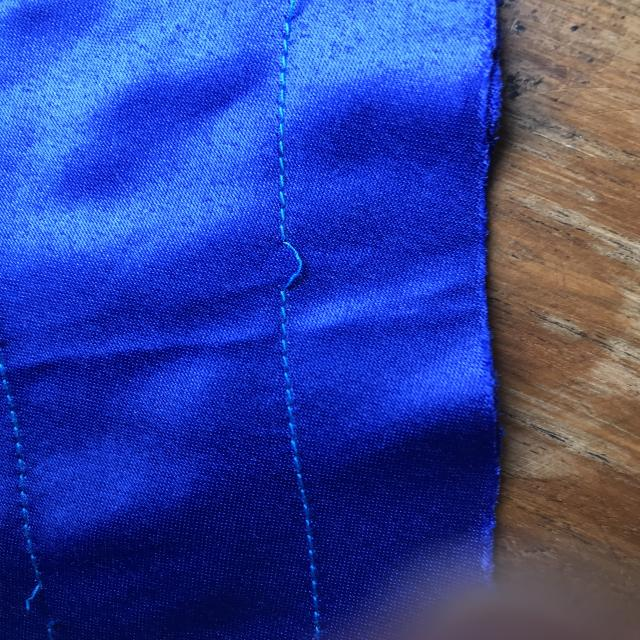broken: (19, 571, 78, 640)
good: (271, 393, 317, 495)
skip: (260, 218, 320, 304)
